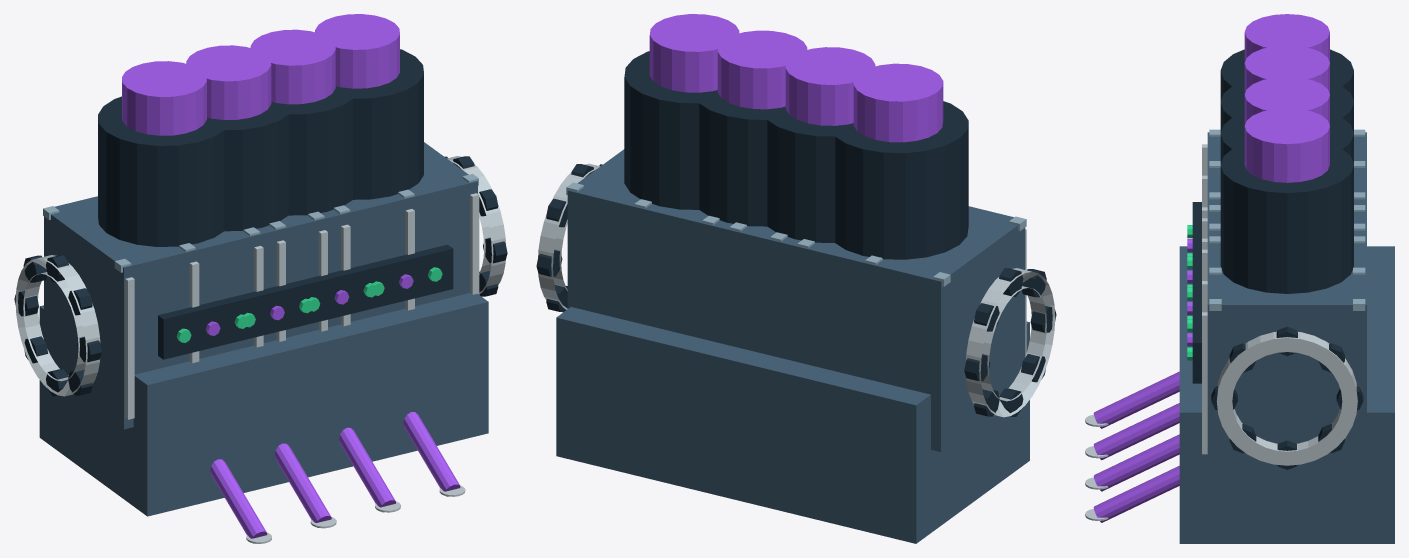
The model's file is 41_L77_MaterialSelectivityAnalyzer.fbx.
3 renders of one model, left to right at view 1: azimuth 30°, elevation 25°; view 2: azimuth 150°, elevation 25°; view 3: azimuth 270°, elevation 25°, orthographic. The views are drawn at different scales.
Parts seen in each view (by area): view 1: MaterialSelectivityAnalyzer_Part_0000, MaterialSelectivityAnalyzer_Part_0001, MaterialSelectivityAnalyzer_Part_0026, MaterialSelectivityAnalyzer_Part_0127, MaterialSelectivityAnalyzer_Part_0152, MaterialSelectivityAnalyzer_Part_0110, MaterialSelectivityAnalyzer_Part_0068, MaterialSelectivityAnalyzer_Part_0043, MaterialSelectivityAnalyzer_Part_0027, MaterialSelectivityAnalyzer_Part_0153, MaterialSelectivityAnalyzer_Part_0111, MaterialSelectivityAnalyzer_Part_0069 (+14 smaller); view 2: MaterialSelectivityAnalyzer_Part_0000, MaterialSelectivityAnalyzer_Part_0001, MaterialSelectivityAnalyzer_Part_0085, MaterialSelectivityAnalyzer_Part_0026, MaterialSelectivityAnalyzer_Part_0127, MaterialSelectivityAnalyzer_Part_0043, MaterialSelectivityAnalyzer_Part_0152, MaterialSelectivityAnalyzer_Part_0068, MaterialSelectivityAnalyzer_Part_0110, MaterialSelectivityAnalyzer_Part_0027, MaterialSelectivityAnalyzer_Part_0069, MaterialSelectivityAnalyzer_Part_0153 (+3 smaller); view 3: MaterialSelectivityAnalyzer_Part_0000, MaterialSelectivityAnalyzer_Part_0127, MaterialSelectivityAnalyzer_Part_0152, MaterialSelectivityAnalyzer_Part_0143, MaterialSelectivityAnalyzer_Part_0153, MaterialSelectivityAnalyzer_Part_0027, MaterialSelectivityAnalyzer_Part_0111, MaterialSelectivityAnalyzer_Part_0069, MaterialSelectivityAnalyzer_Part_0026, MaterialSelectivityAnalyzer_Part_0169, MaterialSelectivityAnalyzer_Part_0175, MaterialSelectivityAnalyzer_Part_0178 (+9 smaller).
Boxes of the visible parts, left/top/right/bottom form: MaterialSelectivityAnalyzer_Part_0000: left=39, top=293, right=488, bottom=516; MaterialSelectivityAnalyzer_Part_0001: left=44, top=196, right=284, bottom=429; MaterialSelectivityAnalyzer_Part_0026: left=98, top=96, right=230, bottom=246; MaterialSelectivityAnalyzer_Part_0127: left=317, top=142, right=477, bottom=329; MaterialSelectivityAnalyzer_Part_0152: left=329, top=49, right=423, bottom=199; MaterialSelectivityAnalyzer_Part_0110: left=264, top=88, right=358, bottom=215; MaterialSelectivityAnalyzer_Part_0068: left=201, top=102, right=294, bottom=231; MaterialSelectivityAnalyzer_Part_0043: left=188, top=209, right=348, bottom=361; MaterialSelectivityAnalyzer_Part_0027: left=122, top=61, right=206, bottom=135; MaterialSelectivityAnalyzer_Part_0153: left=315, top=14, right=399, bottom=88; MaterialSelectivityAnalyzer_Part_0111: left=250, top=29, right=335, bottom=104; MaterialSelectivityAnalyzer_Part_0069: left=186, top=45, right=271, bottom=119; MaterialSelectivityAnalyzer_Part_0000: left=556, top=307, right=1029, bottom=543; MaterialSelectivityAnalyzer_Part_0001: left=771, top=206, right=1025, bottom=451; MaterialSelectivityAnalyzer_Part_0085: left=635, top=204, right=805, bottom=363; MaterialSelectivityAnalyzer_Part_0026: left=828, top=101, right=968, bottom=259; MaterialSelectivityAnalyzer_Part_0127: left=567, top=149, right=736, bottom=332; MaterialSelectivityAnalyzer_Part_0043: left=703, top=221, right=873, bottom=379; MaterialSelectivityAnalyzer_Part_0152: left=624, top=51, right=724, bottom=209; MaterialSelectivityAnalyzer_Part_0068: left=760, top=106, right=856, bottom=242; MaterialSelectivityAnalyzer_Part_0110: left=692, top=90, right=786, bottom=226; MaterialSelectivityAnalyzer_Part_0027: left=853, top=63, right=943, bottom=142; MaterialSelectivityAnalyzer_Part_0069: left=785, top=47, right=875, bottom=125; MaterialSelectivityAnalyzer_Part_0153: left=649, top=14, right=739, bottom=92; MaterialSelectivityAnalyzer_Part_0000: left=1179, top=246, right=1394, bottom=543; MaterialSelectivityAnalyzer_Part_0127: left=1207, top=226, right=1366, bottom=466; MaterialSelectivityAnalyzer_Part_0152: left=1220, top=143, right=1353, bottom=293; MaterialSelectivityAnalyzer_Part_0143: left=1216, top=331, right=1357, bottom=465; MaterialSelectivityAnalyzer_Part_0153: left=1244, top=108, right=1329, bottom=182; MaterialSelectivityAnalyzer_Part_0027: left=1244, top=14, right=1329, bottom=62; MaterialSelectivityAnalyzer_Part_0111: left=1244, top=77, right=1329, bottom=125; MaterialSelectivityAnalyzer_Part_0069: left=1244, top=45, right=1329, bottom=93; MaterialSelectivityAnalyzer_Part_0026: left=1220, top=49, right=1353, bottom=100; MaterialSelectivityAnalyzer_Part_0169: left=1093, top=371, right=1179, bottom=428; MaterialSelectivityAnalyzer_Part_0175: left=1093, top=434, right=1179, bottom=491; MaterialSelectivityAnalyzer_Part_0178: left=1093, top=465, right=1179, bottom=522.
Size of the model in its own units: 130 by 118 by 83.5.
